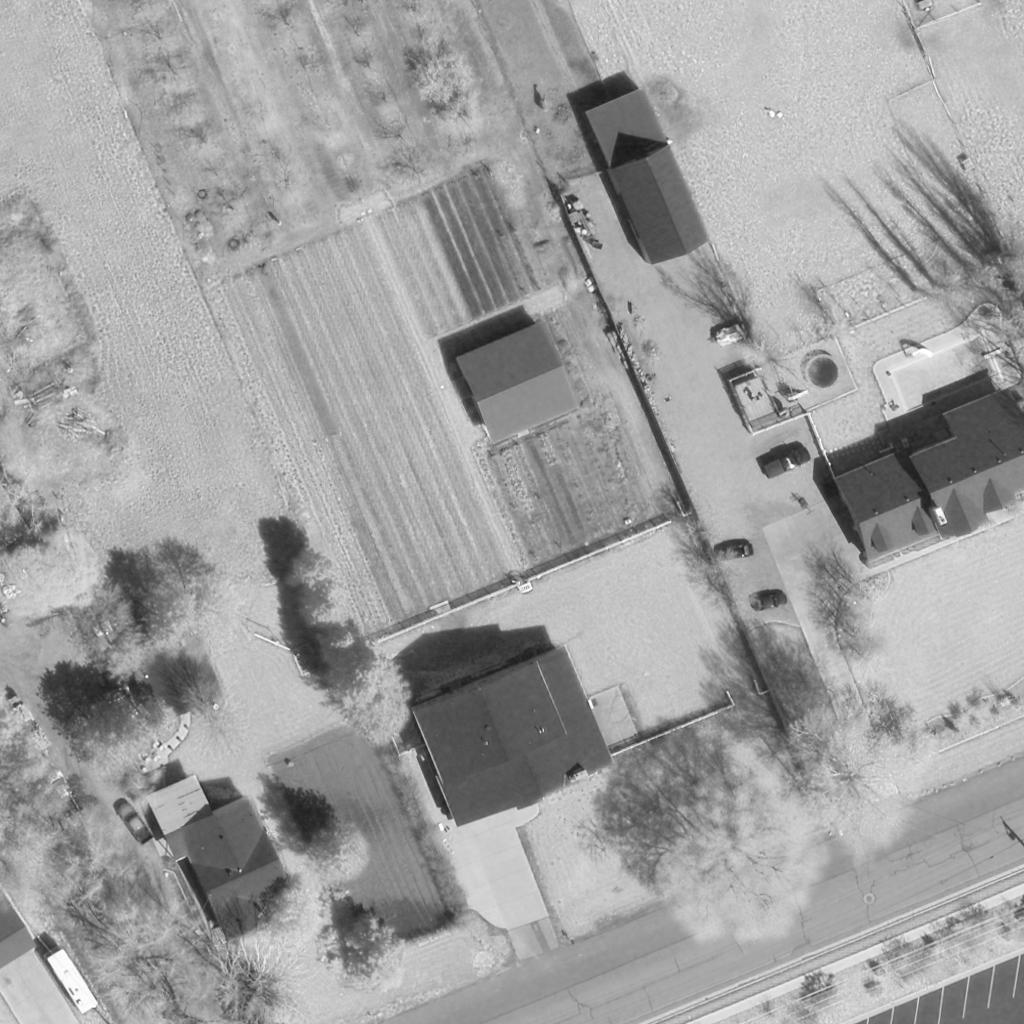vehicle: (43, 948, 101, 1018), (39, 769, 81, 821), (114, 800, 156, 848), (761, 446, 811, 480), (748, 590, 788, 610), (715, 544, 755, 562)
